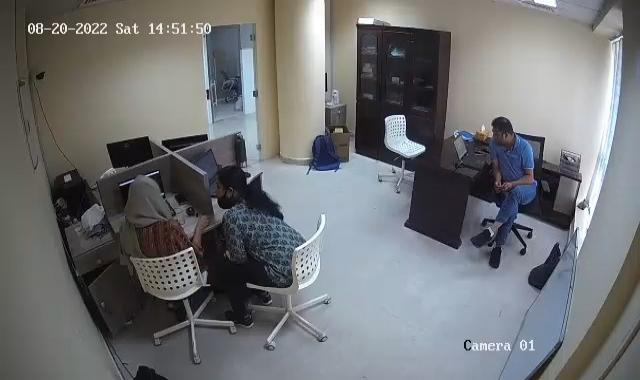no_hairnet: (208, 165, 254, 203), (123, 178, 163, 217), (488, 112, 519, 148)
